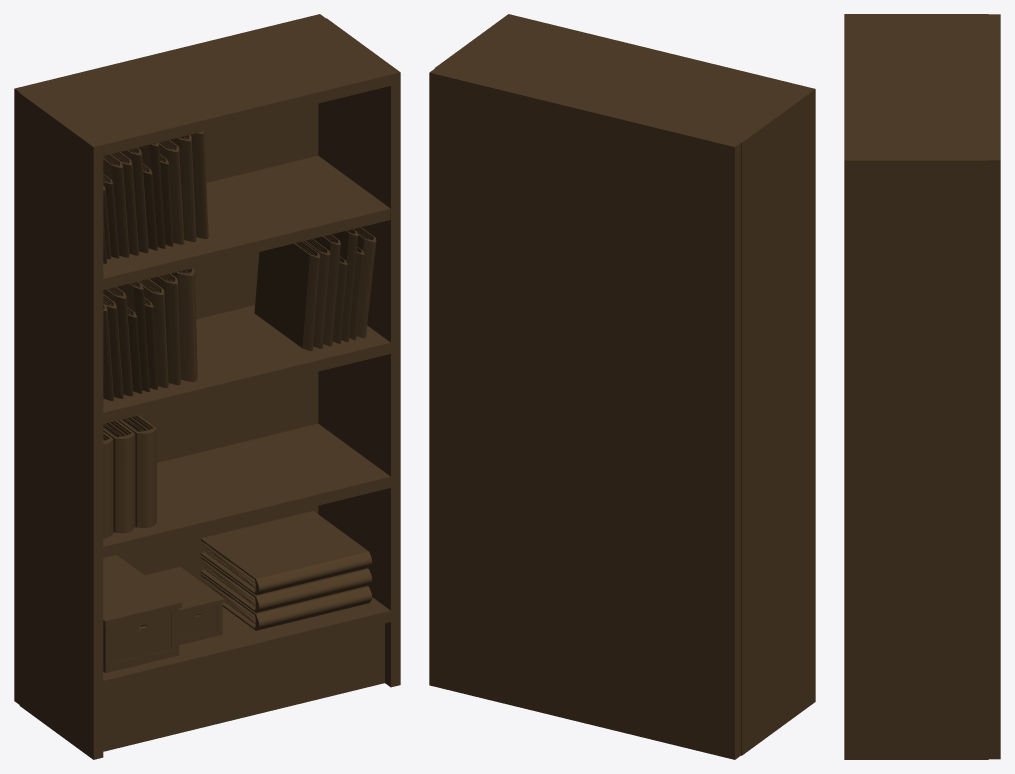
The model's file is bookcase_3d42390f.glb.
3 renders of one model, left to right at view 1: azimuth 30°, elevation 25°; view 2: azimuth 150°, elevation 25°; view 3: azimuth 270°, elevation 25°, orthographic. The views are drawn at different scales.
Parts seen in each view (by area): view 1: Object_2, Object_3, Object_4; view 2: Object_2; view 3: Object_2.
Boxes of the visible parts, x1,y1,x2,y2 form: Object_2: [14, 14, 400, 759]; Object_3: [103, 131, 372, 630]; Object_4: [103, 268, 255, 623]; Object_2: [429, 14, 815, 759]; Object_2: [844, 14, 1000, 759].
Bounding box in the file's own units: 3.76 × 7.18 × 1.69.
